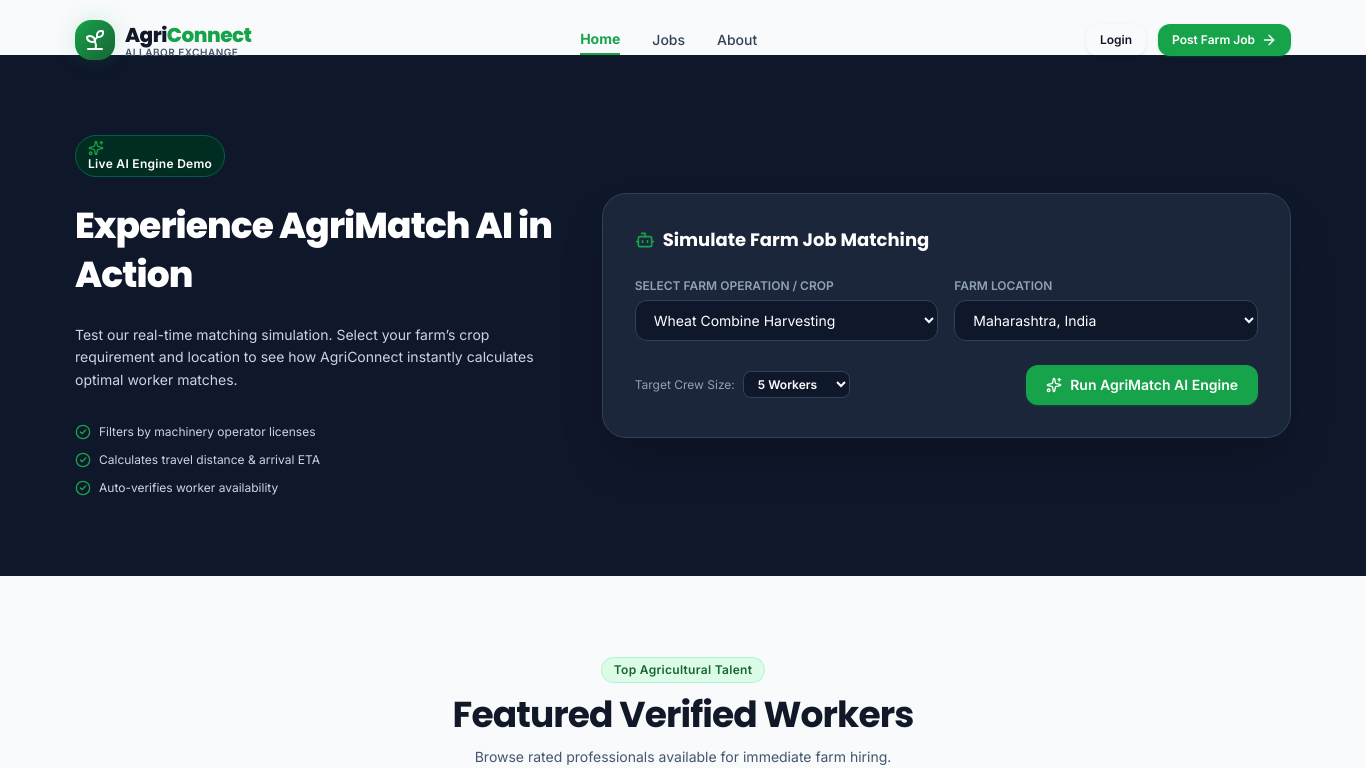
AgriMatch AI Frontend Integration Suite › 3. Renders clean empty state when 0 workers match (no fake fallback to 5 or mock workers)
This screenshot has width=1366, height=768.
(page scrolled)
Click the button "Run AgriMatch AI Engine". click: (1142, 385)
box: [1026, 365, 1258, 405]
(page scrolled)
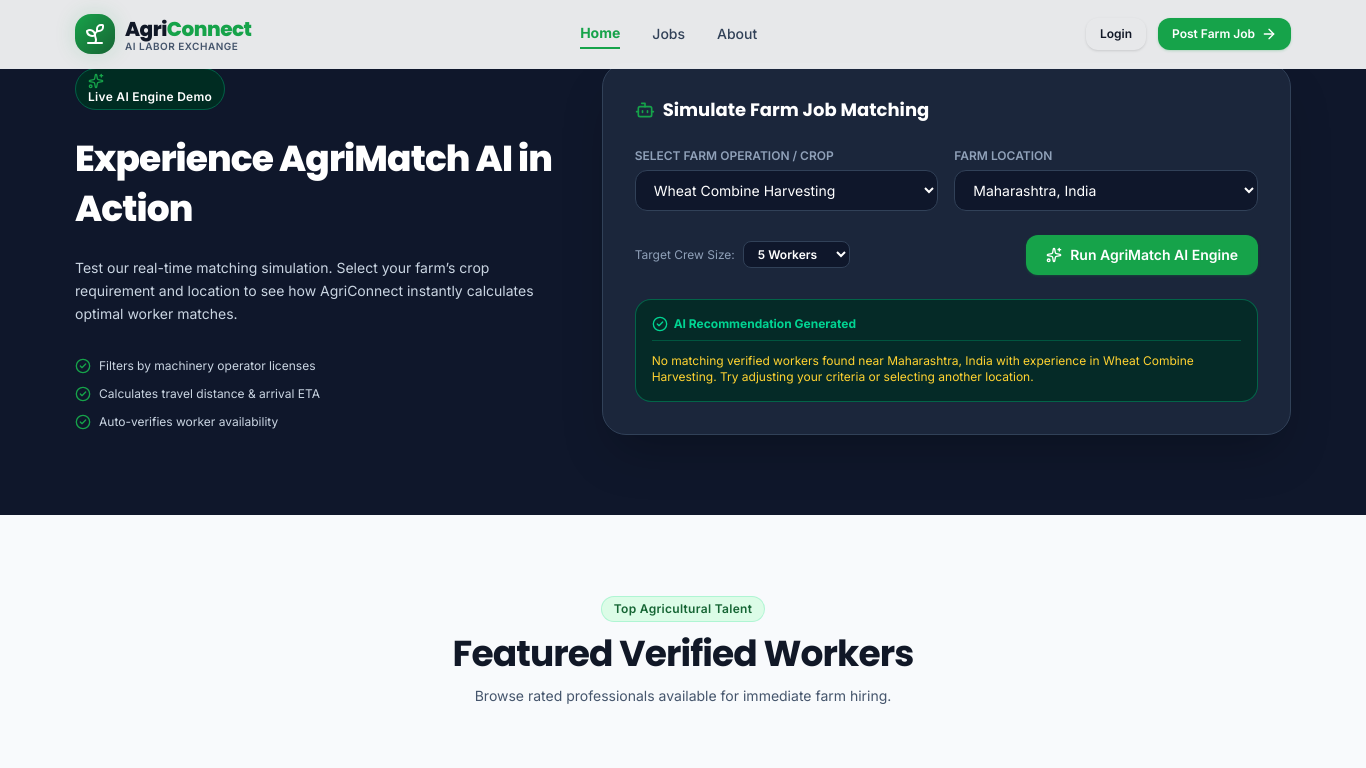
Check: the text "No matching verified workers found" is shown, box [652, 353, 887, 368]
